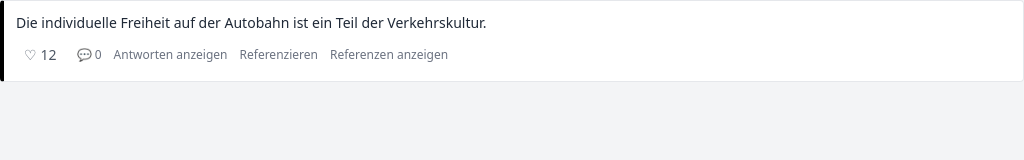
Scenario: ArgumentNode - Referenzen anzeigen › loads and displays referenzen when clicked
Click the button "Referenzen anzeigen".
click(389, 55)  # box [330,47,448,63]
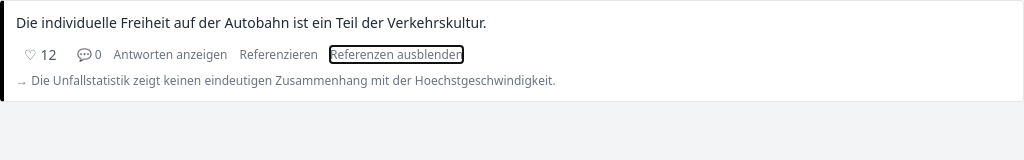
Check: the list item "Die Unfallstatistik zeigt keinen eindeutigen Zusammenhang" is shown, box [31,72,556,89]
Check: the button "Referenzen ausblenden" is shown, box [330,47,463,63]
